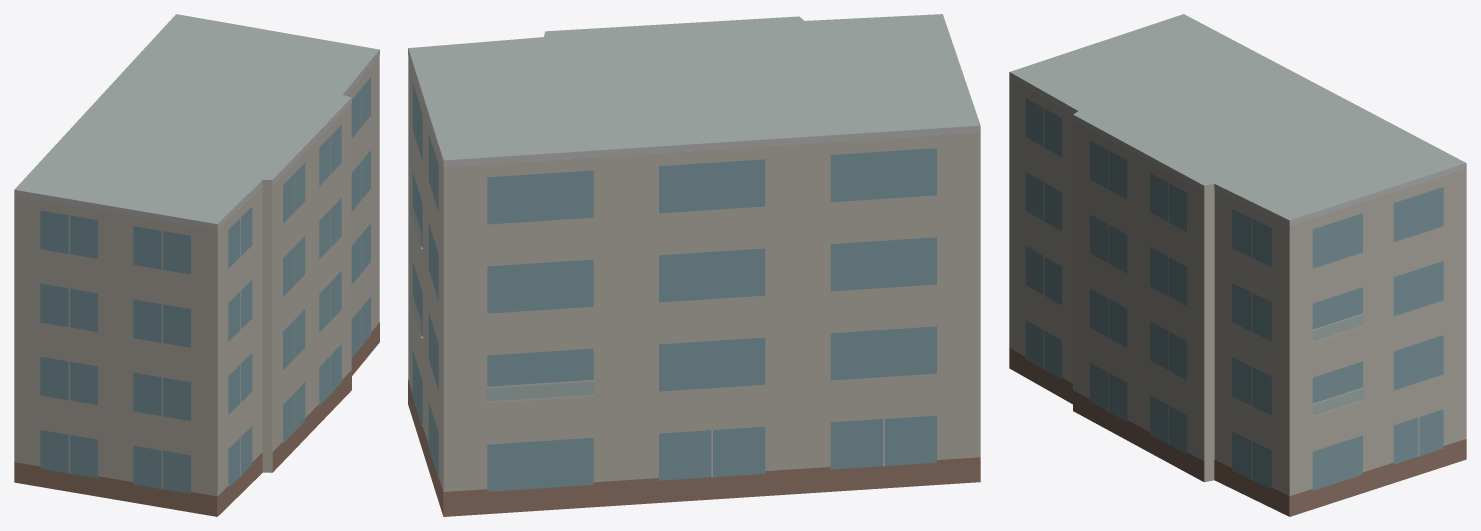
File: survey-upis-32918509.glb
The picture shows the model from 3 angles, left to right: view 1: azimuth 30°, elevation 25°; view 2: azimuth 150°, elevation 25°; view 3: azimuth 270°, elevation 25°; orthographic projection. The views are drawn at different scales.
Parts seen in each view (by area): view 1: survey-upis-32918509.tmp; view 2: survey-upis-32918509.tmp; view 3: survey-upis-32918509.tmp.
Part boxes in pixels (x1,y1,x2,y2): survey-upis-32918509.tmp: [14, 14, 379, 516]; survey-upis-32918509.tmp: [408, 14, 980, 516]; survey-upis-32918509.tmp: [1009, 14, 1466, 516].
Size of the model in its own units: 18.23 by 12.2 by 17.06.
